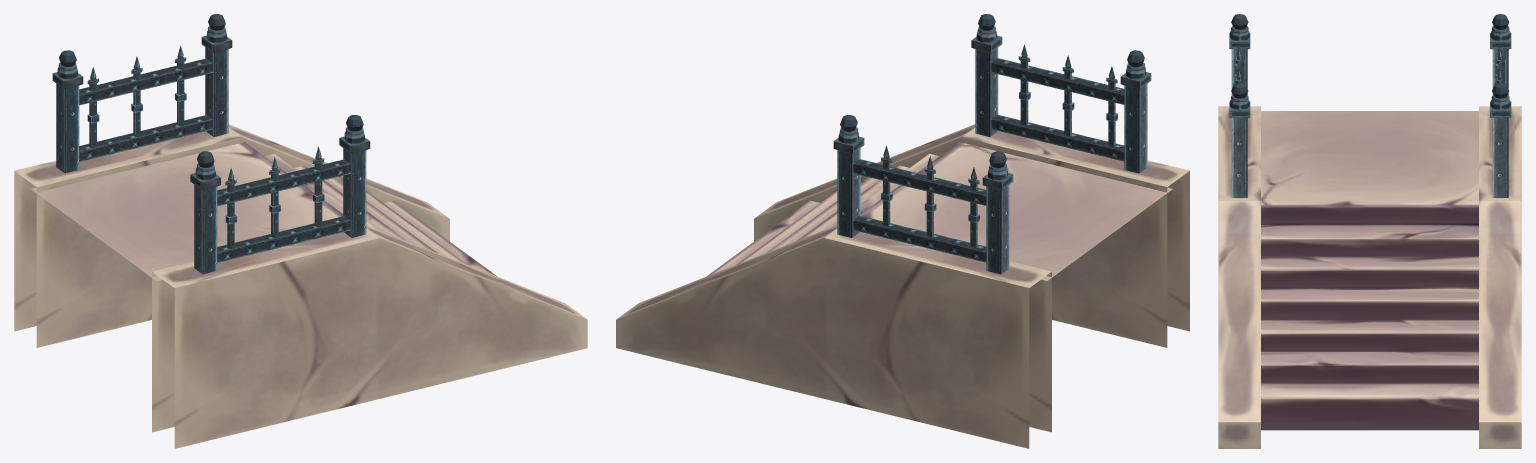
Rendered from taijie07.fbx.
3 views of the same model, side by side, from view 1: azimuth 30°, elevation 25°; view 2: azimuth 150°, elevation 25°; view 3: azimuth 270°, elevation 25° (orthographic). The views are drawn at different scales.
Parts seen in each view (by area): view 1: mentaijie01; view 2: mentaijie01; view 3: mentaijie01.
Part boxes in pixels (x1,y1,x2,y2): mentaijie01: [14, 14, 587, 448]; mentaijie01: [616, 14, 1189, 448]; mentaijie01: [1218, 14, 1521, 448].
Size of the model in its own units: 49.14 by 31.73 by 33.
1 material, 1 textured.
